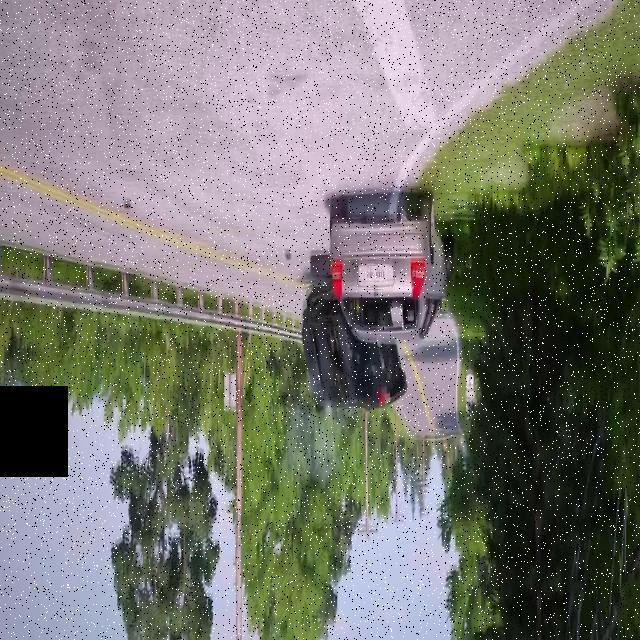severe: (298, 262, 414, 420)
